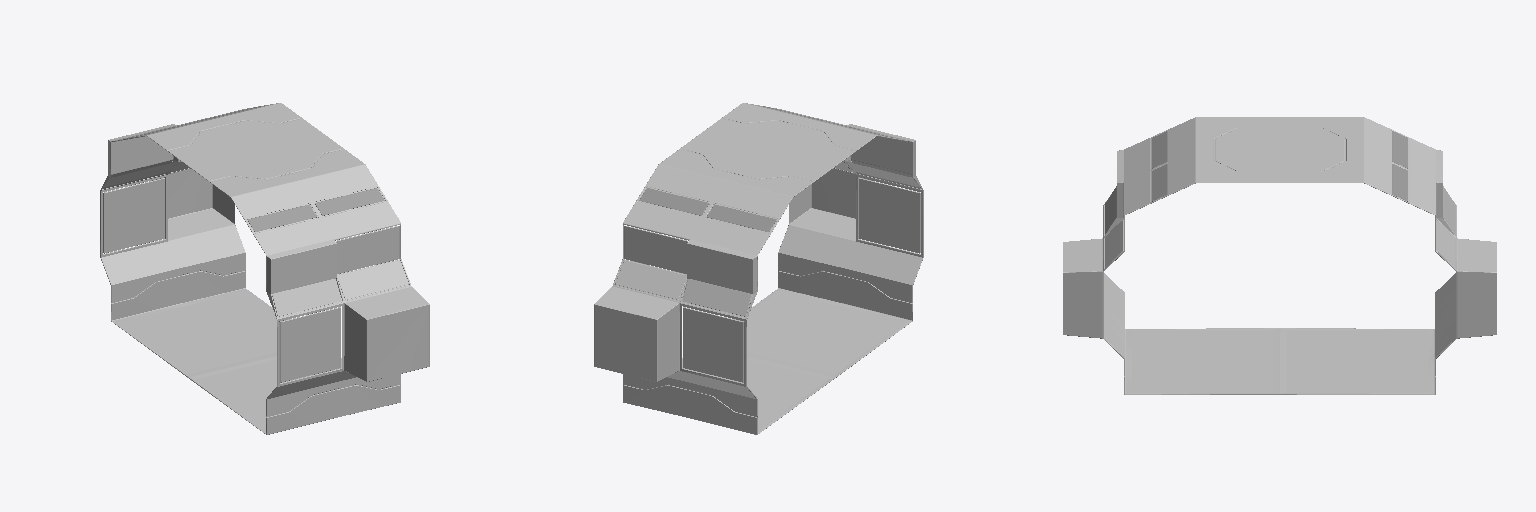
Rendered from StraightPanelPipes.obj.
3 renders of one model, left to right at view 1: azimuth 30°, elevation 25°; view 2: azimuth 150°, elevation 25°; view 3: azimuth 270°, elevation 25°, orthographic.
Parts seen in each view (by area): view 1: HighMesh.001_Plane.002, BaseMesh.001_Plane.003; view 2: HighMesh.001_Plane.002, BaseMesh.001_Plane.003; view 3: HighMesh.001_Plane.002.
Boxes of the visible parts, x1=… form: HighMesh.001_Plane.002: x1=100, y1=103, x2=429, y2=434; BaseMesh.001_Plane.003: x1=104, y1=118, x2=408, y2=417; HighMesh.001_Plane.002: x1=594, y1=103, x2=923, y2=434; BaseMesh.001_Plane.003: x1=615, y1=118, x2=919, y2=417; HighMesh.001_Plane.002: x1=1063, y1=117, x2=1496, y2=394.
Size of the model in its own units: 2 by 3.01 by 5.58.